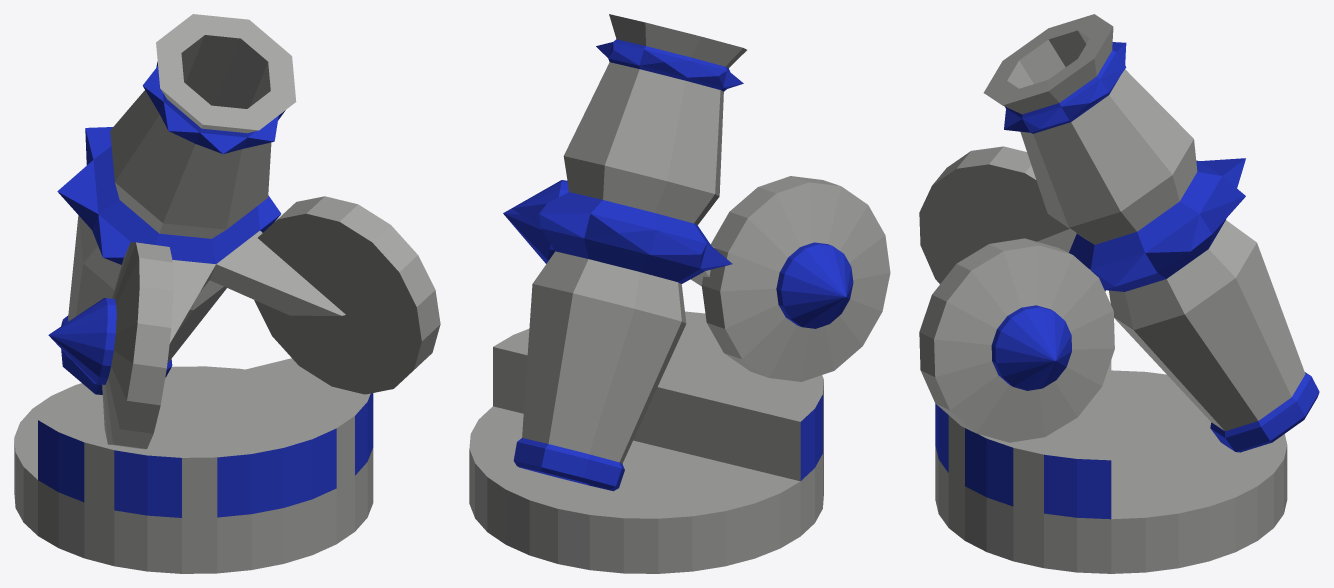
The model's file is Mortar_Tower_Upgraded_Water.fbx.
3 renders of one model, left to right at view 1: azimuth 30°, elevation 25°; view 2: azimuth 150°, elevation 25°; view 3: azimuth 270°, elevation 25°, orthographic. The views are drawn at different scales.
Parts seen in each view (by area): view 1: Circle; view 2: Circle; view 3: Circle.
Boxes of the visible parts, x1=… form: Circle: x1=14, y1=14, x2=440, y2=573; Circle: x1=469, y1=14, x2=890, y2=573; Circle: x1=919, y1=14, x2=1319, y2=573.
Size of the model in its own units: 545 by 724 by 555.
Materials: 1 (1 with a texture image).
